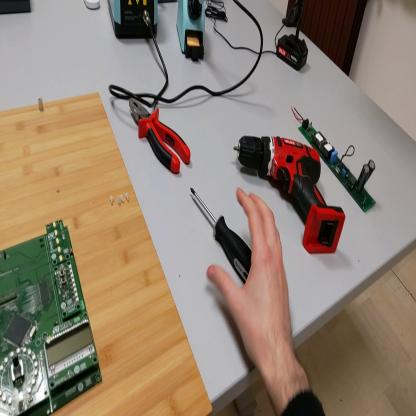electric screwdriver: (231, 133, 347, 257)
electric screwdriver battery: (276, 31, 310, 72)
hand: (210, 188, 297, 372)
high voltage board: (292, 105, 379, 215)
low voltage board: (3, 222, 103, 414)
pliers: (128, 98, 191, 177)
screwdriver-: (191, 187, 254, 285)
welder base: (179, 1, 208, 63)
welder station: (109, 2, 160, 43)
working area: (2, 77, 215, 416)
